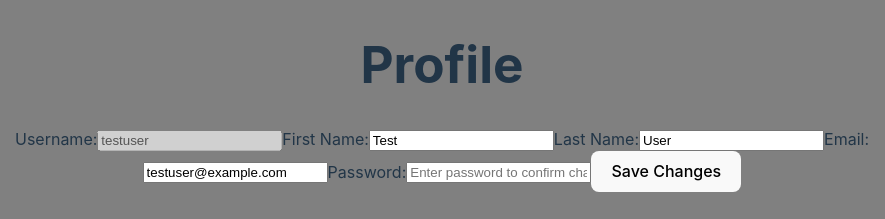
Profile Component › displays an error message if profile update fails
Type "password123" into the password field labelled "Password:" at point(499, 173), box [406,162,591,184]
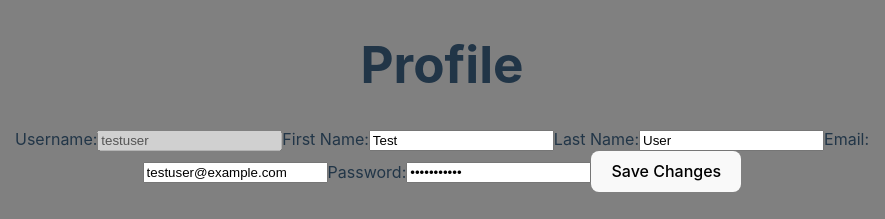
Click the button "Save Changes" at point(666, 172), box [591,151,741,192]
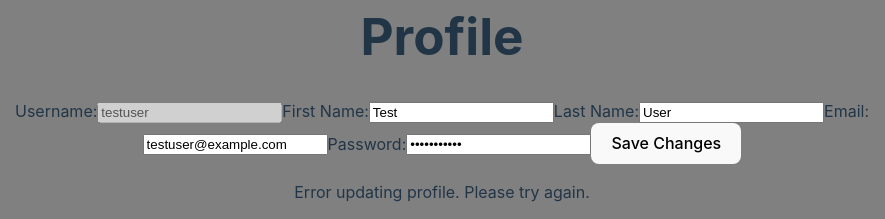
Check: the text "Error updating profile. Please try again." is shown, box [294,182,590,202]
